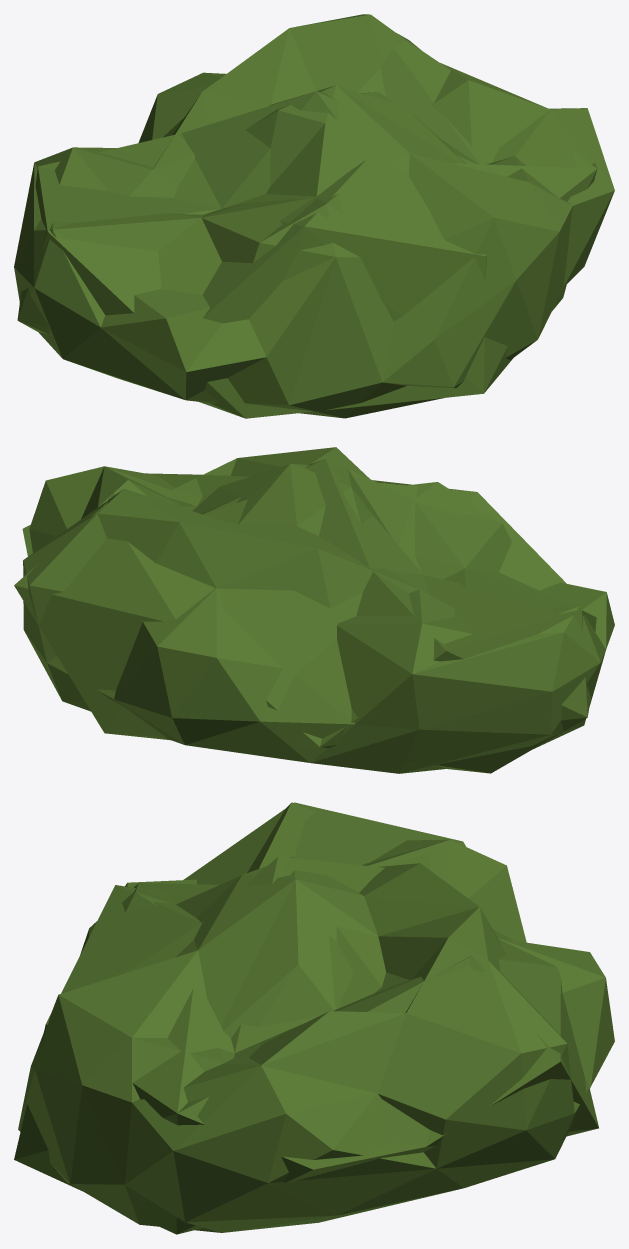
The model's file is B-Bush.fbx.
3 renders of one model, top to bottom at view 1: azimuth 30°, elevation 25°; view 2: azimuth 150°, elevation 25°; view 3: azimuth 270°, elevation 25°, orthographic. The views are drawn at different scales.
Visible parts, largest first — view 1: Bush_1_1_LOD1; view 2: Bush_1_1_LOD1; view 3: Bush_1_1_LOD1.
Boxes of the visible parts, x1,y1,x2,y2 form: Bush_1_1_LOD1: (14,14,614,418); Bush_1_1_LOD1: (14,447,614,773); Bush_1_1_LOD1: (14,802,614,1234).
Size of the model in its own units: 240 by 101 by 189.
